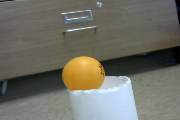PingPongBall: (63, 58, 105, 91)
